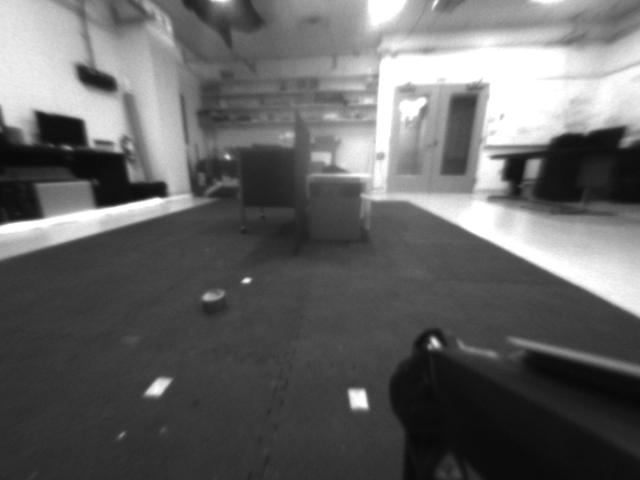dogtoy: (187, 281, 240, 320)
